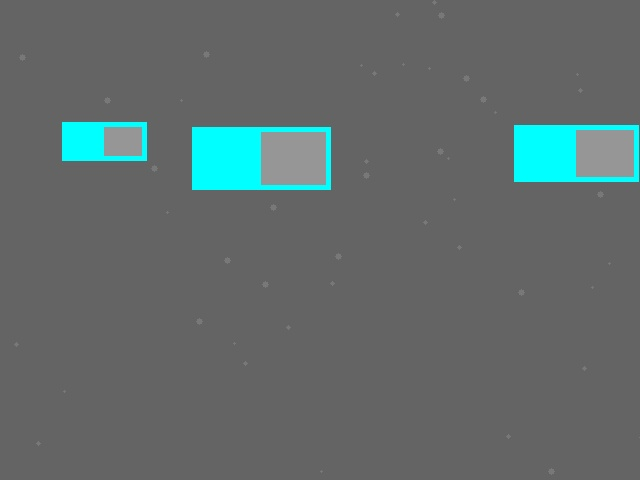truck: (192, 127, 330, 189), (514, 125, 638, 181), (62, 122, 146, 160)
